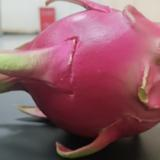pitaya: (3, 1, 160, 157)
